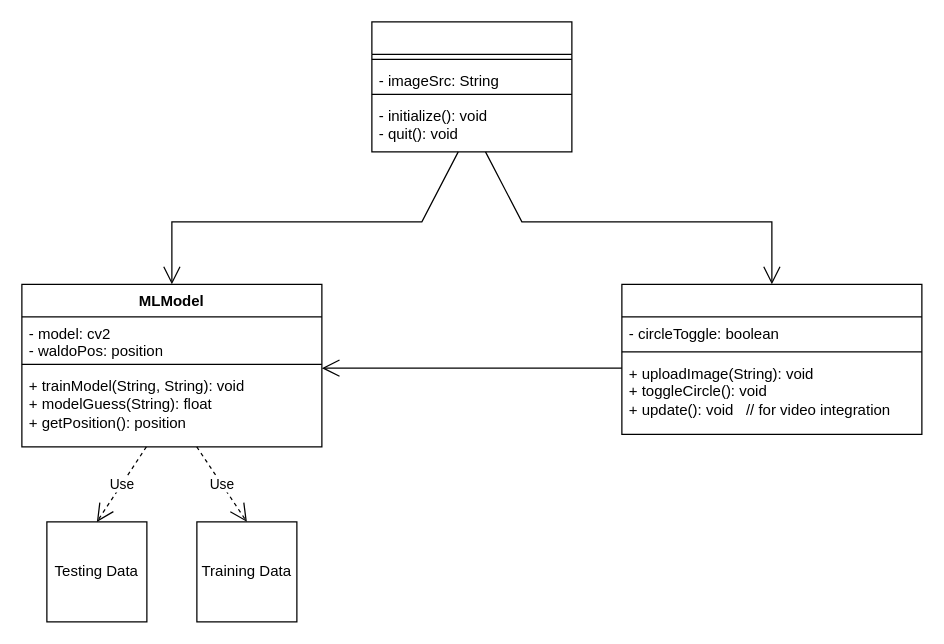
Some shapes in this 944 by 644 pixel diagram are drawn without their labels. The shapes that lost their labels are listed below. From the top down, each one's box as (x1, y1, x2, y2) in pixels, then its label:
(371, 21, 572, 152): WaldoMain
(621, 283, 922, 434): GUI
